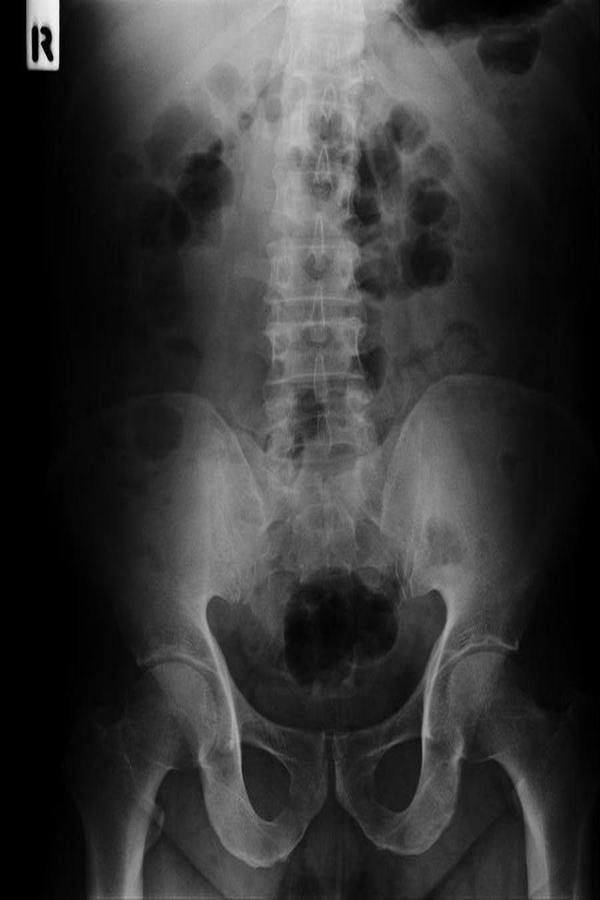lumbar scoliosis: (263, 5, 373, 528)
